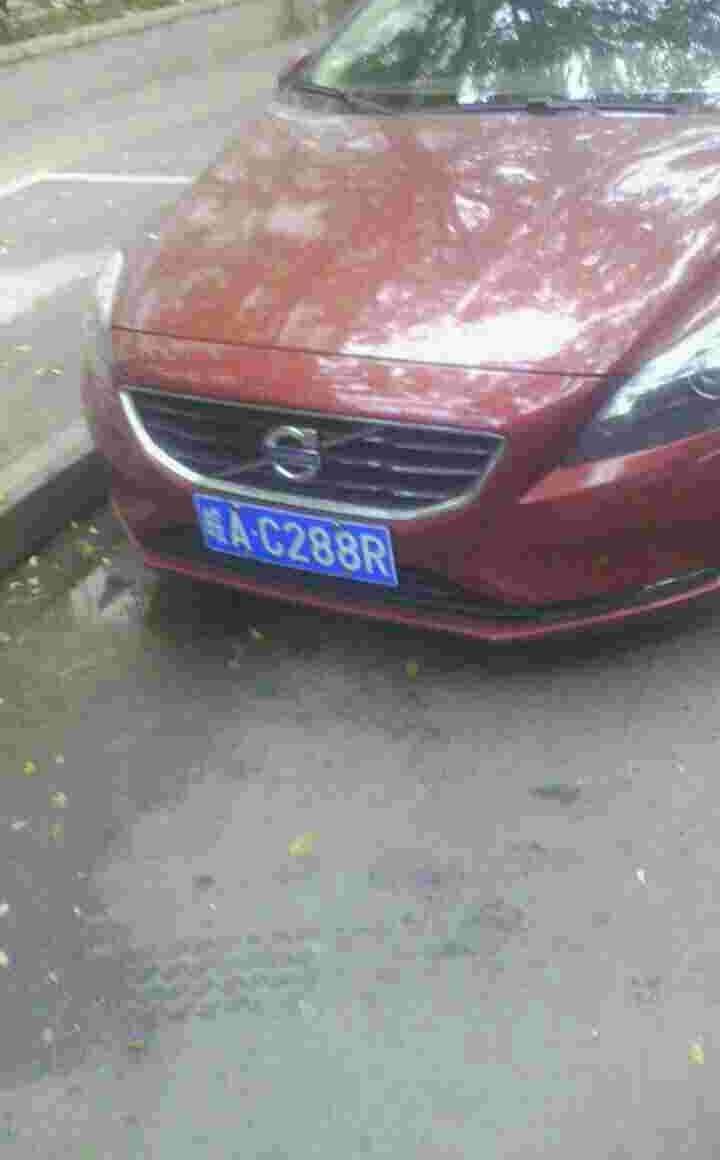plate: (189, 489, 403, 591)
